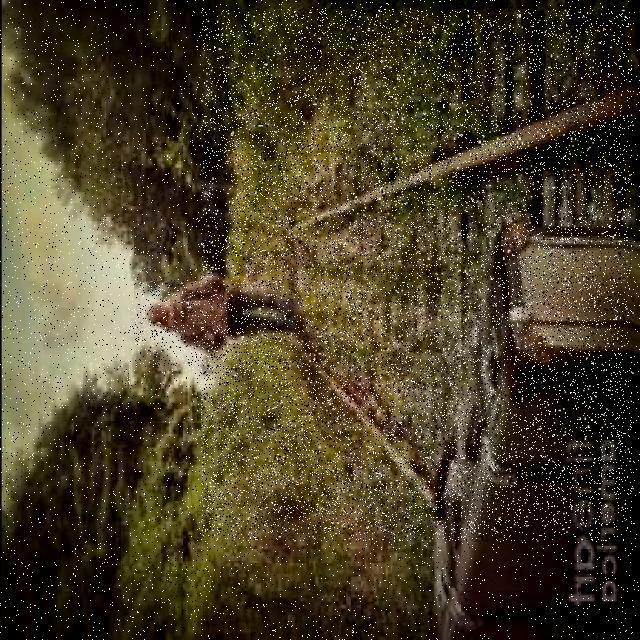danger: (136, 282, 305, 367)
rail: (201, 10, 632, 541)
